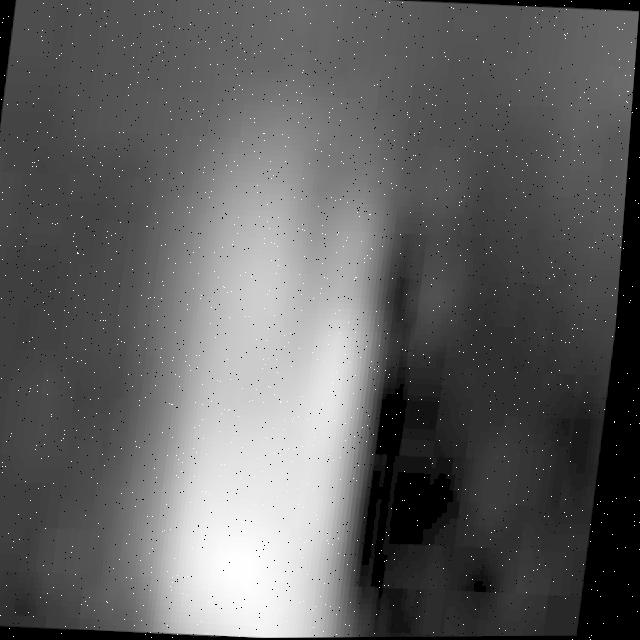person: (142, 119, 444, 640)
